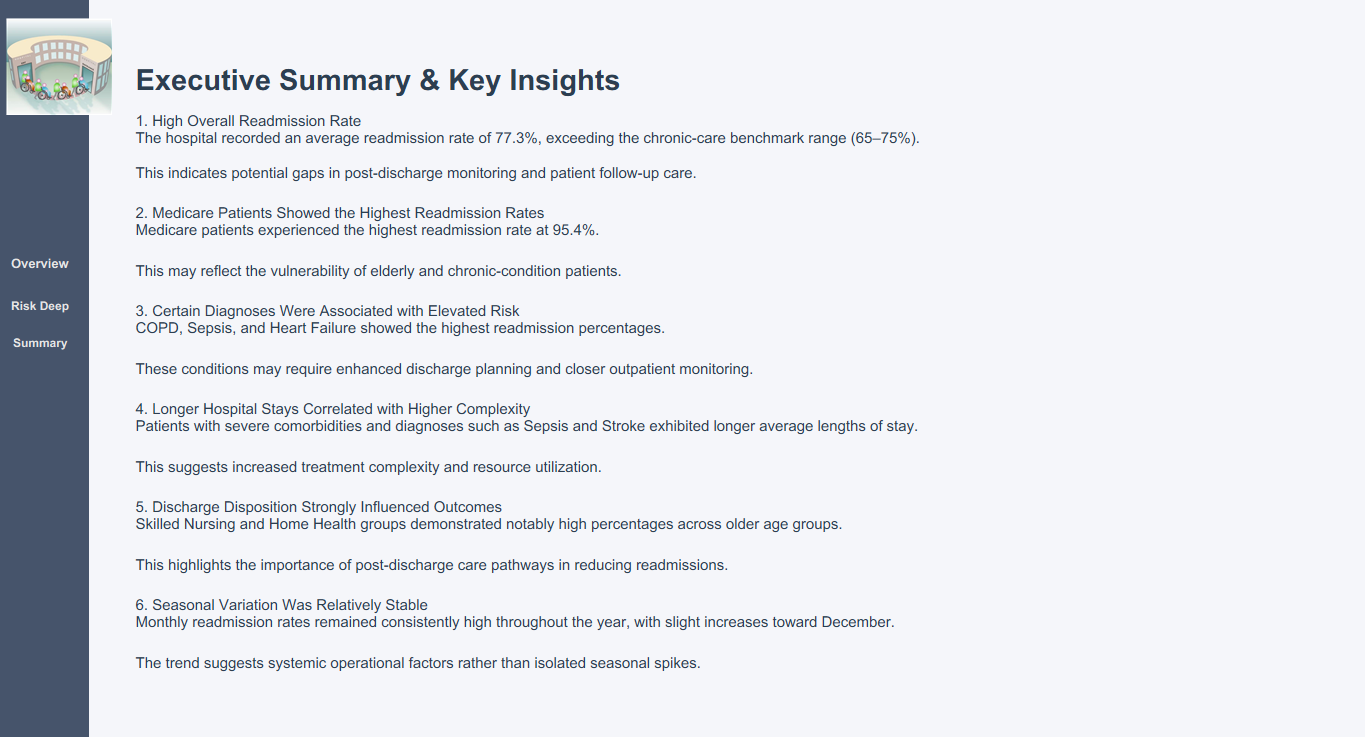

This screenshot's page, from the dashboard's own definition file:
{"tool":"tableau","page":{"name":"Executive Summary","canvas":[1000,1000],"units":"permille","ordinal":2},"visuals":[{"type":"image","param":"C:/Users/Ali/Desktop/hospital_readmission/R.jpg","box":[4.3,16.6,77.9,149.5]},{"type":"text","box":[97,26.6,882.9,973.4]},{"type":"dashboard-object","box":[1.7,332.2,56.3,49.8]},{"type":"dashboard-object","box":[1.7,390.4,56.3,49.8]},{"type":"dashboard-object","box":[1.7,440.2,56.3,49.8]}]}

Visuals, with their boxes on the dashboard's canvas, which has no fixed pixel size, in thousandths of its width and height (x1, y1, x2, y2). These are canvas units, not pixel positions in the 1365x737 screenshot, which may show the page scaled, cropped or inside an application window:
image: 4, 17, 82, 166
text: 97, 27, 980, 1000
dashboard-object: 2, 332, 58, 382
dashboard-object: 2, 390, 58, 440
dashboard-object: 2, 440, 58, 490
